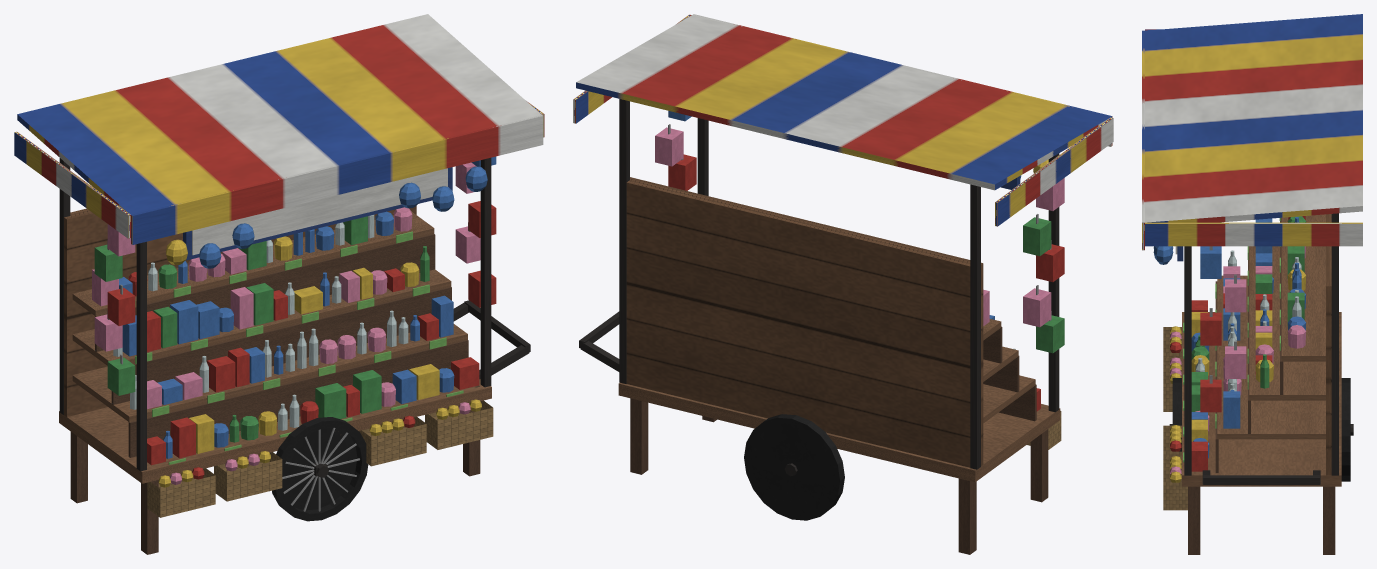
Rendered from ShopCart.fbx.
The picture shows the model from 3 angles, left to right: view 1: azimuth 30°, elevation 25°; view 2: azimuth 150°, elevation 25°; view 3: azimuth 270°, elevation 25°; orthographic projection. The views are drawn at different scales.
Visible parts, largest first — view 1: ShopCart_Canopy, ShopCart_Goods, ShopCart, ShopCart_Sign; view 2: ShopCart, ShopCart_Canopy, ShopCart_Goods; view 3: ShopCart_Canopy, ShopCart, ShopCart_Goods.
Part boxes in pixels (x1,y1,x2,y2): ShopCart_Canopy: (14,14,544,471); ShopCart_Goods: (92,156,496,517); ShopCart: (59,206,530,554); ShopCart_Sign: (192,168,447,255); ShopCart: (579,177,1060,554); ShopCart_Canopy: (573,14,1113,469); ShopCart_Goods: (655,111,1064,449); ShopCart_Canopy: (1142,14,1362,475); ShopCart: (1169,214,1353,554); ShopCart_Goods: (1153,216,1306,510).
Bounding box in the file's own units: 437 × 370 × 202.
1 material, 1 textured.
